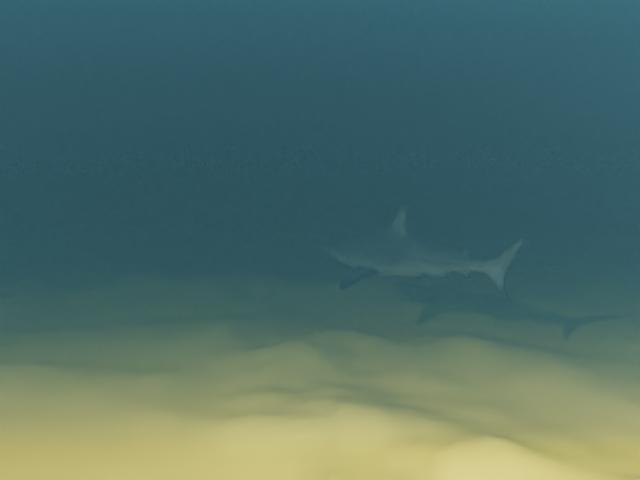Carribean Shark.001: (324, 204, 530, 300)
